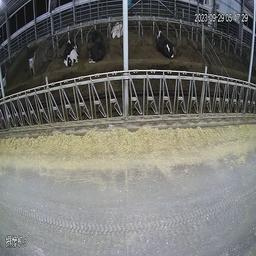cow: (154, 19, 178, 55), (89, 31, 105, 61), (64, 35, 78, 66), (110, 18, 123, 38)
